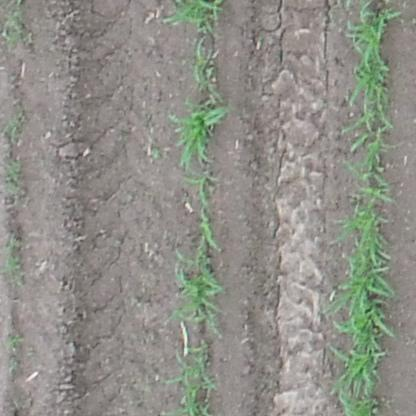corn: (344, 1, 393, 413), (174, 246, 226, 333), (174, 96, 231, 169), (169, 341, 221, 412), (182, 172, 224, 241), (188, 36, 229, 93), (167, 2, 230, 29), (4, 157, 27, 199), (4, 10, 30, 47), (2, 247, 24, 281), (3, 112, 23, 144)
vc: (151, 148, 163, 161)
